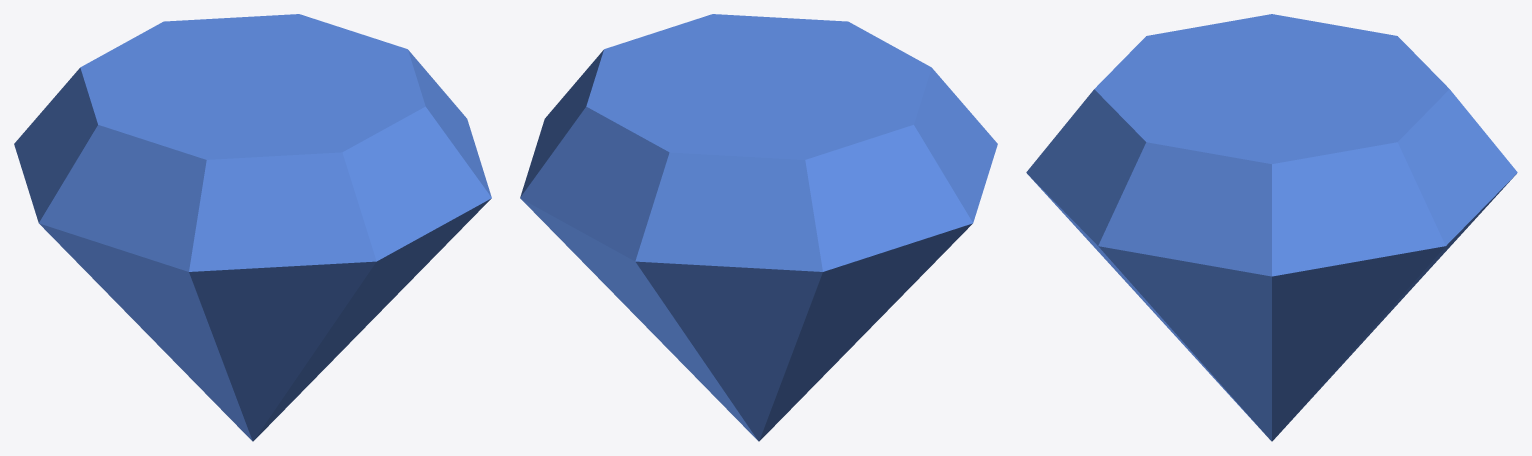
Rendered from Diamond_Blue.fbx.
3 views of the same model, side by side, from view 1: azimuth 30°, elevation 25°; view 2: azimuth 150°, elevation 25°; view 3: azimuth 270°, elevation 25° (orthographic).
Visible parts, largest first — view 1: Diamond Blue; view 2: Diamond Blue; view 3: Diamond Blue.
Part boxes in pixels (bbox=[...]): Diamond Blue: bbox=[14, 14, 491, 441]; Diamond Blue: bbox=[520, 14, 997, 441]; Diamond Blue: bbox=[1026, 14, 1517, 441].
Size of the model in its own units: 59.1 by 46.79 by 59.1.
1 material, 1 textured.
